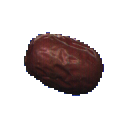gd: (17, 16, 108, 105)
